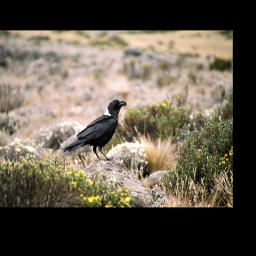Crow: (61, 97, 129, 163)
